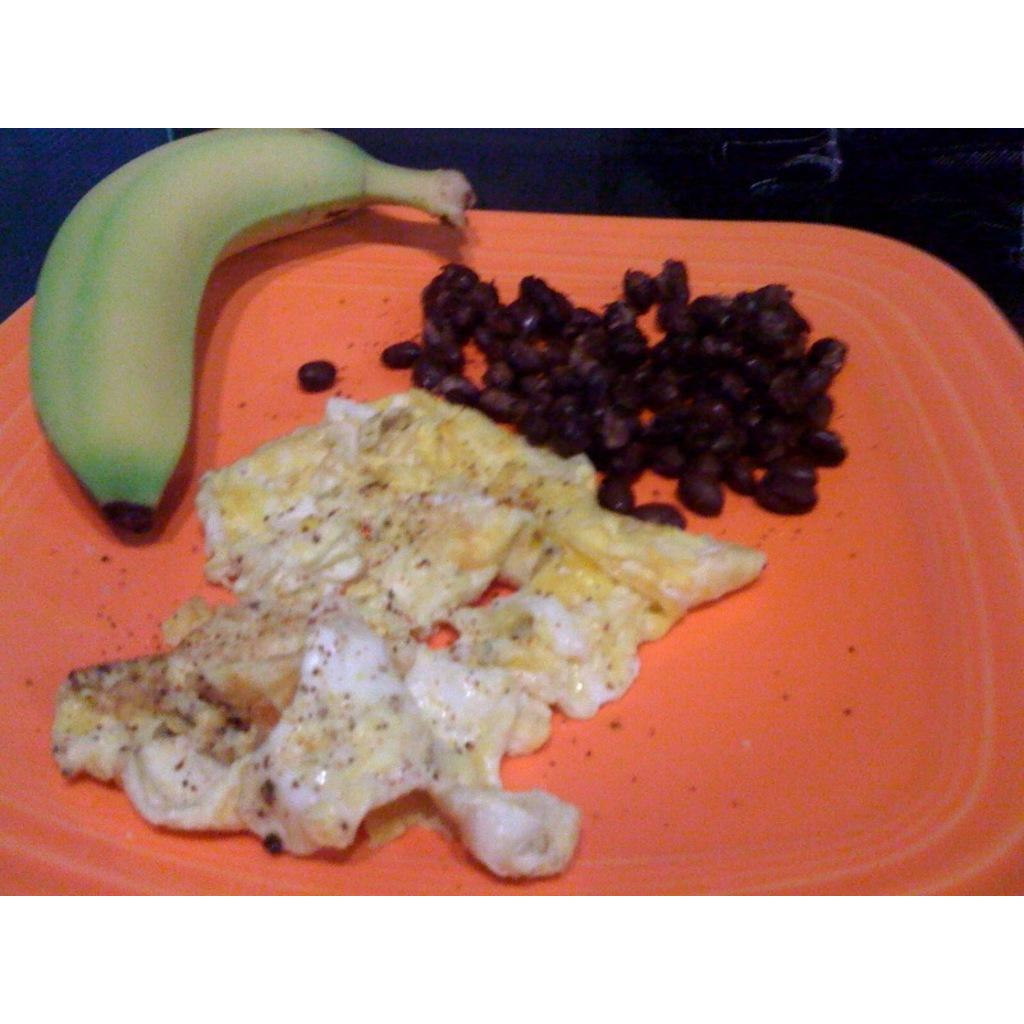banana: (29, 130, 470, 546)
